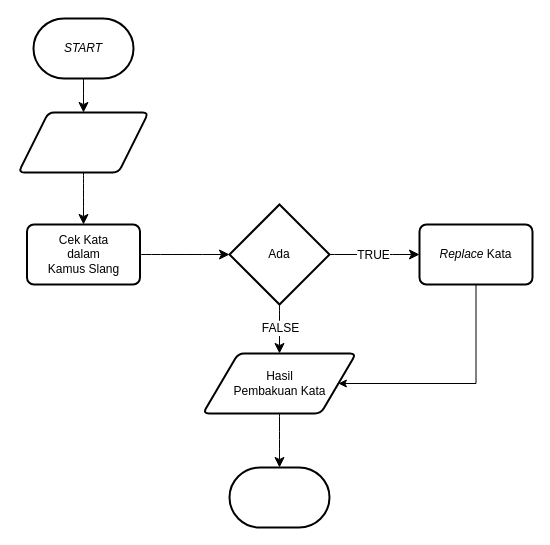
Image size: 550x545. Some labels were removed from this diagram. Here are the shapes that lost their labels. From the top down, the centre of each, then its label:
point 83,142: Hasil Text Cleaning
point 279,497: END
